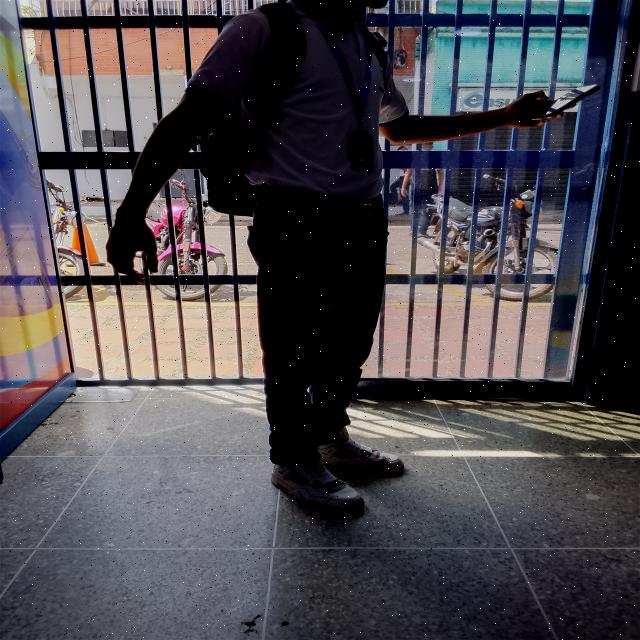carnet: (348, 131, 374, 172)
uniforme_superior: (184, 0, 410, 202)
